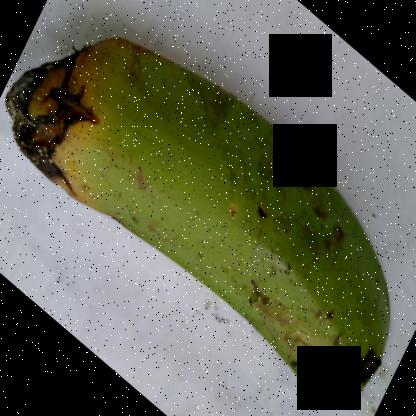unripe: (99, 22, 394, 415)
